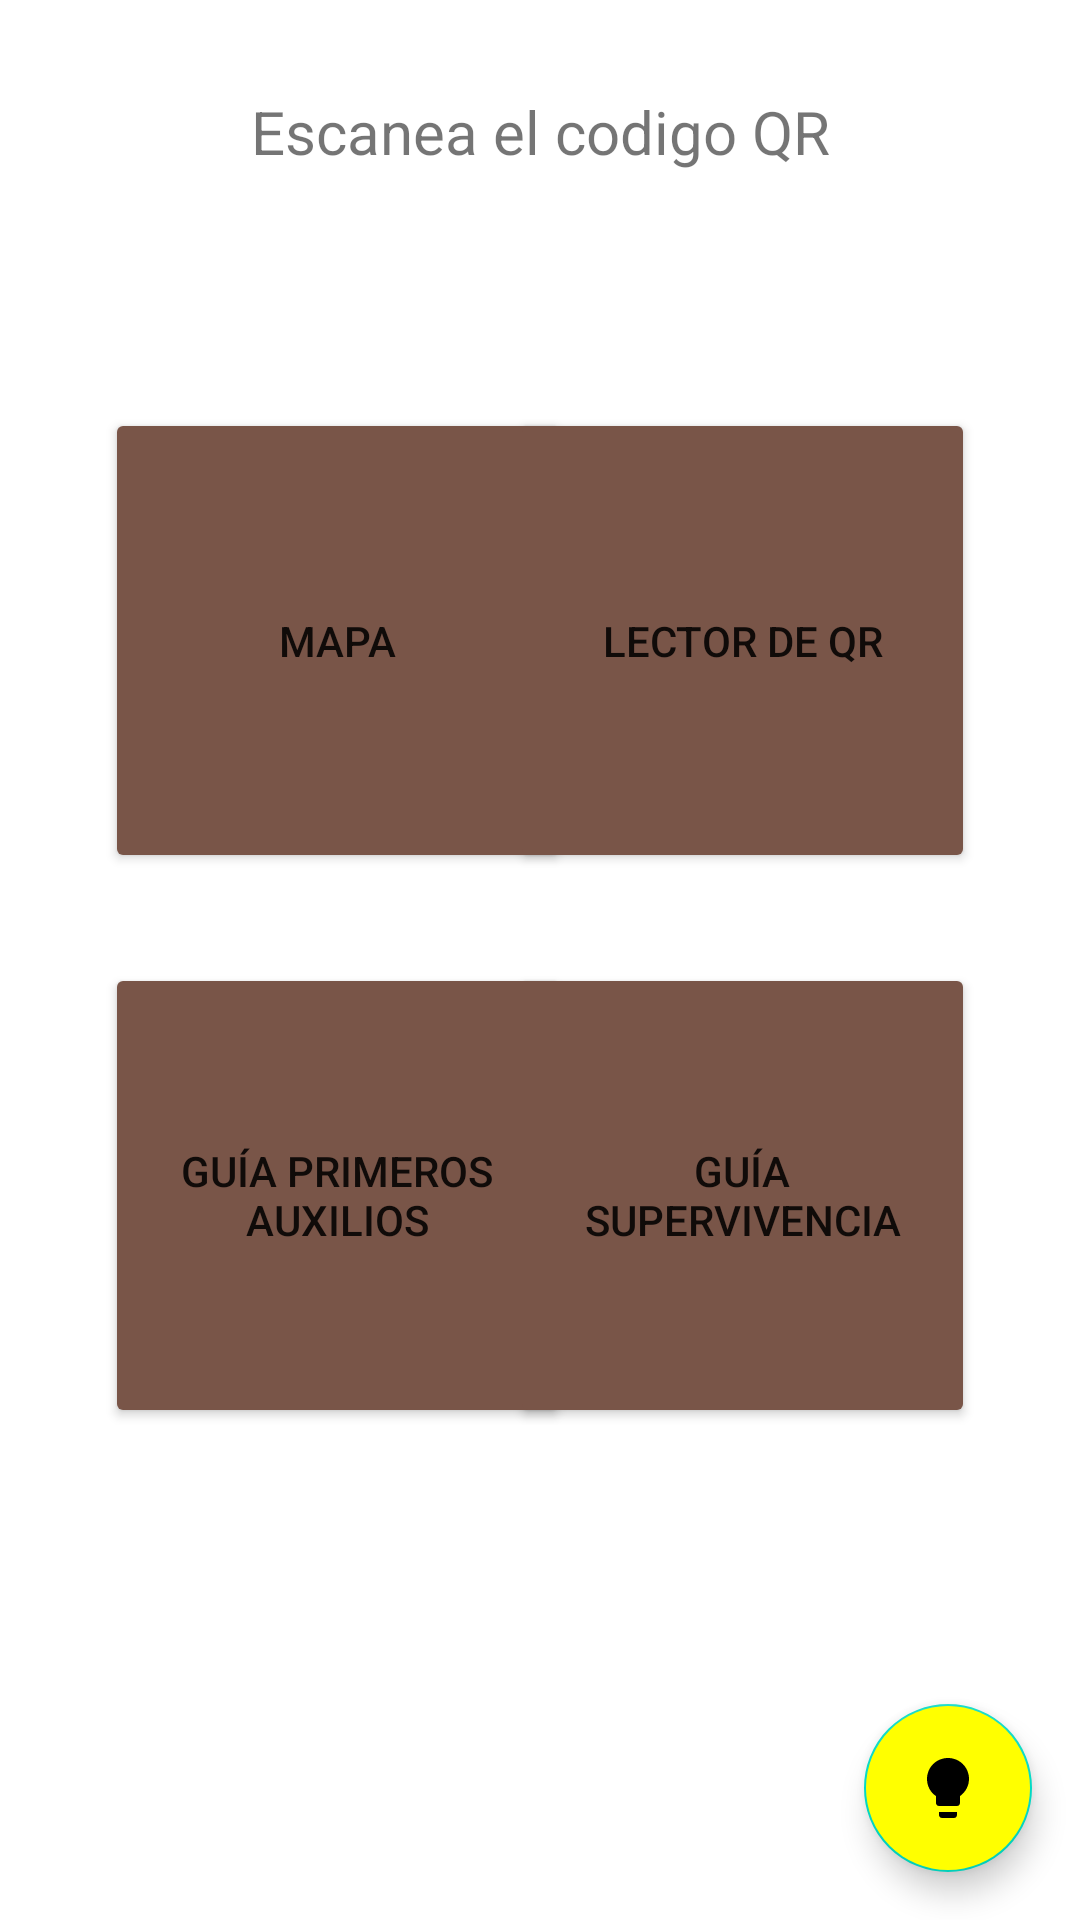

Point at icon controls on the screen. Image size 1080px x 1920px, points as (x=x, y=y).
pista: (x=948, y=1788)
